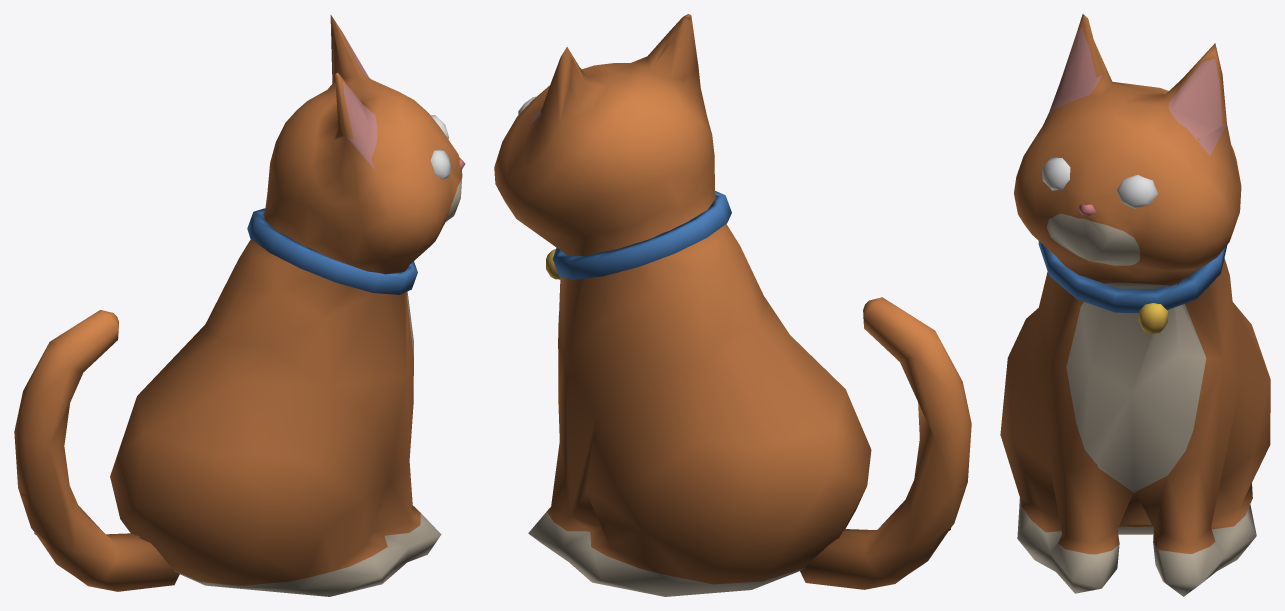
File: Cat.fbx
3 views of the same model, side by side, from view 1: azimuth 30°, elevation 25°; view 2: azimuth 150°, elevation 25°; view 3: azimuth 270°, elevation 25° (orthographic). The views are drawn at different scales.
Visible parts, largest first — view 1: Body, Tail; view 2: Body, Tail; view 3: Body.
Boxes of the visible parts, <box> form: Body: <box>110,14,465,596</box>; Tail: <box>14,310,179,591</box>; Body: <box>494,14,871,596</box>; Tail: <box>800,297,971,589</box>; Body: <box>1000,14,1270,596</box>.
Bounding box in the file's own units: 0.3805 × 0.4206 × 0.1923.
